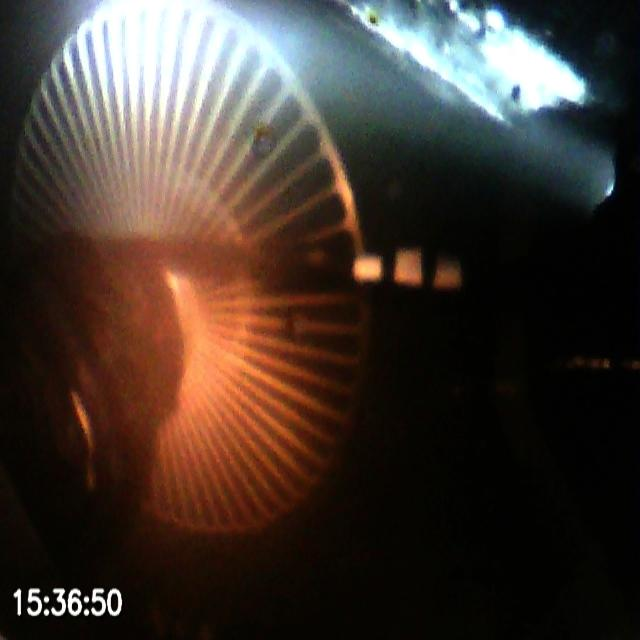white-dots: (351, 246, 465, 294)
